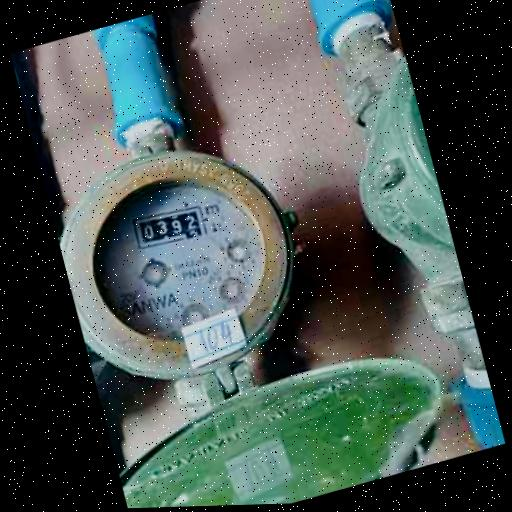0: (138, 218, 158, 243)
2: (181, 210, 202, 239)
3: (153, 216, 171, 240)
9: (167, 213, 187, 238)
border_water_meter_number: (129, 199, 209, 254)
